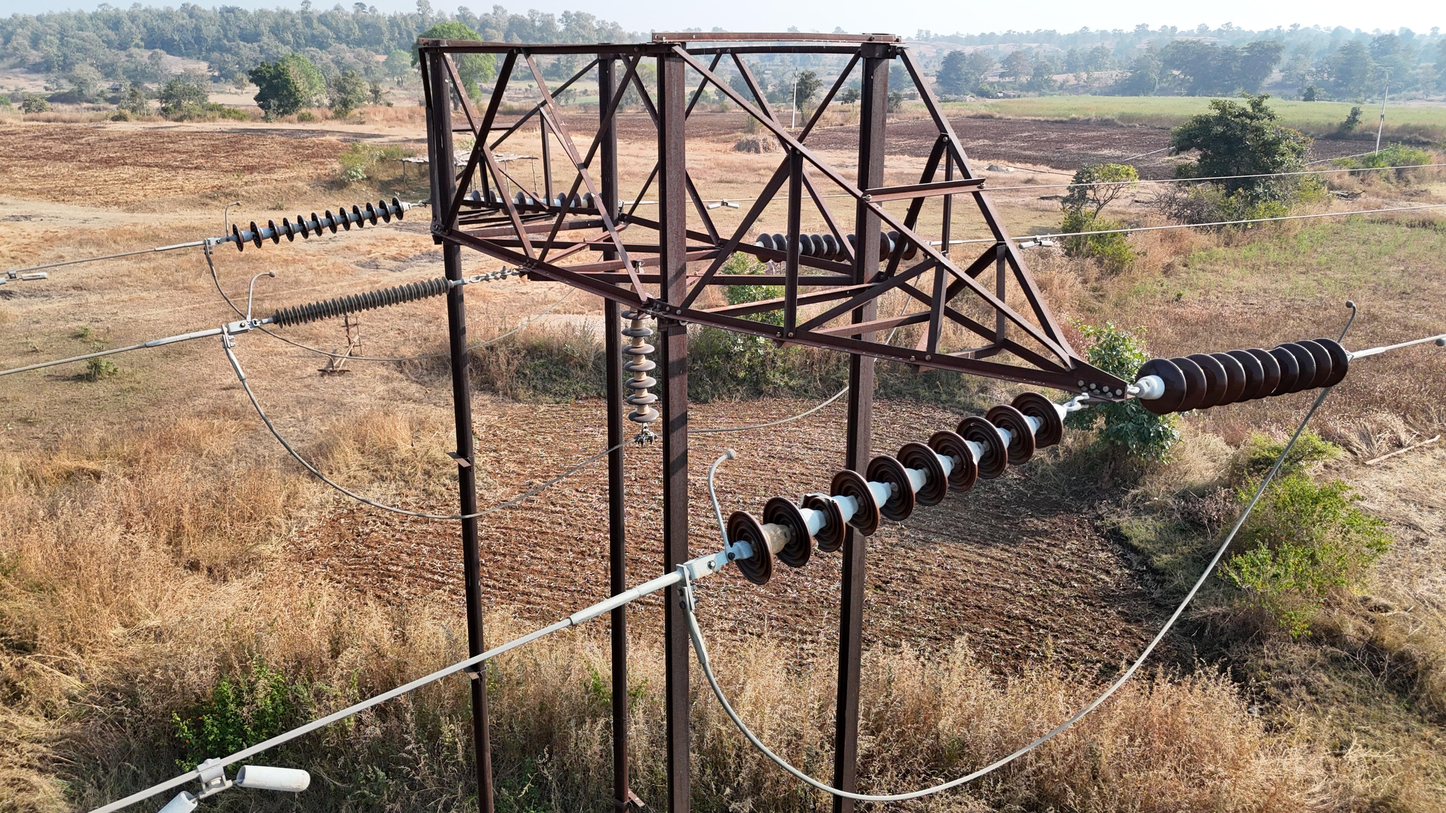broken_insulator: (1012, 391, 1064, 459), (800, 485, 848, 552), (832, 470, 880, 537), (929, 430, 980, 493), (1263, 344, 1300, 399), (627, 409, 660, 423), (626, 394, 659, 405)
